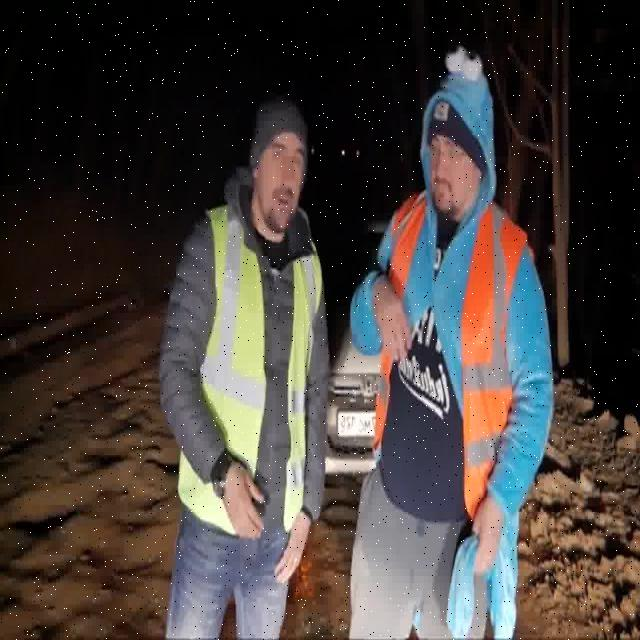Person: (349, 72, 557, 640), (162, 98, 325, 640)
Vest: (375, 193, 524, 492), (178, 208, 318, 522)
